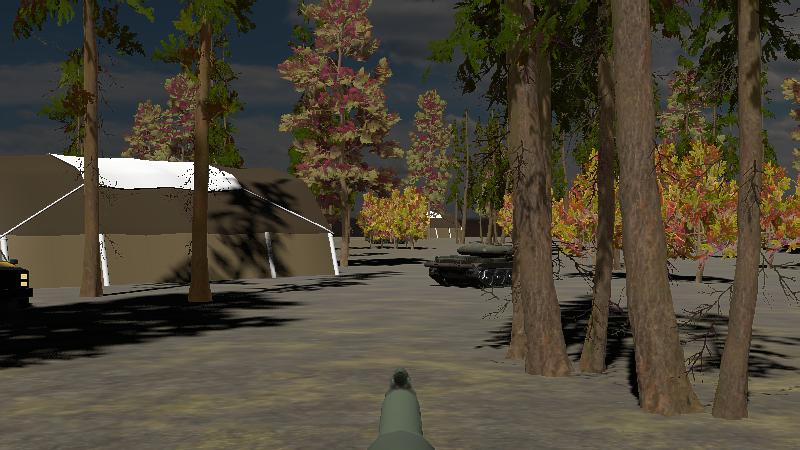Tank: (424, 235, 579, 294)
car: (0, 234, 40, 328), (784, 229, 800, 258)
